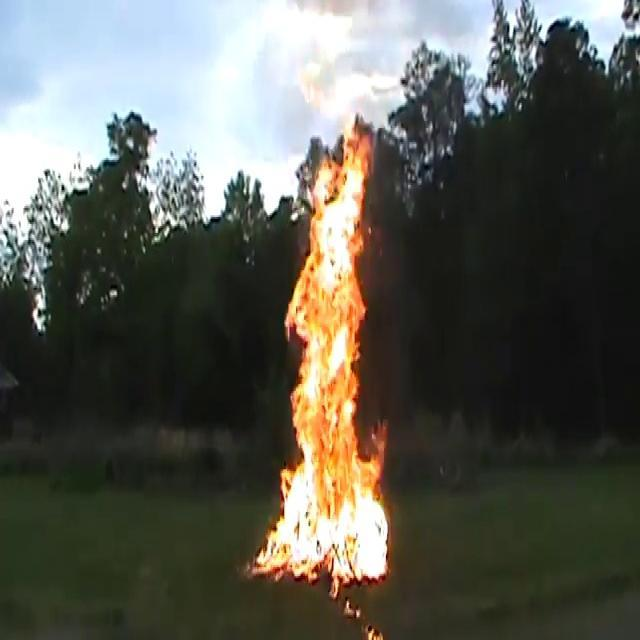Fire: (258, 128, 397, 606)
